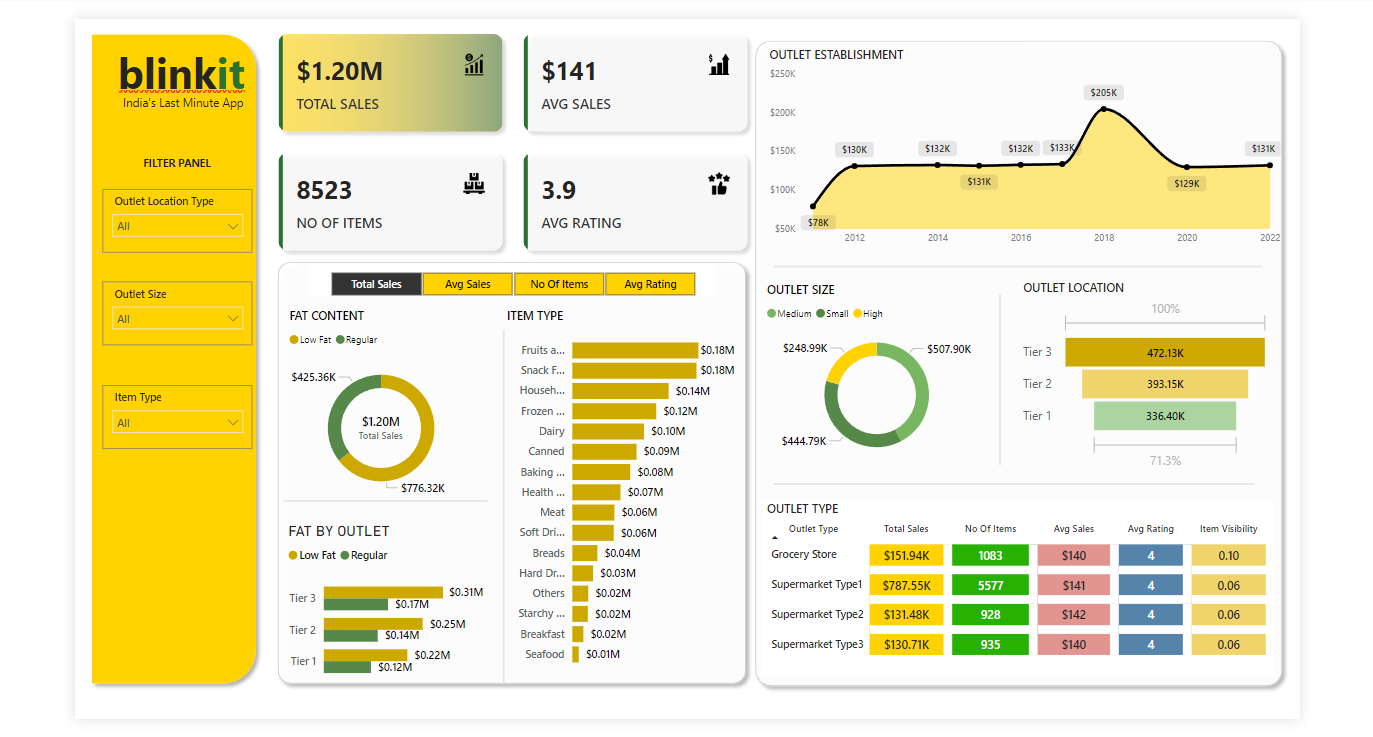

This screenshot's page, from the dashboard's own definition file:
{"tool":"powerbi","page":{"name":"Page 1","canvas":[1400,800],"ordinal":0},"visuals":[{"type":"shape","box":[10,8.6,205.7,760],"z":0},{"type":"textbox","box":[27.1,22.9,188.6,91.4],"z":1000},{"type":"textbox","box":[31.4,81.4,184.3,32.9],"z":2000},{"type":"cardVisual","fields":{"Data":["BlinkIT Grocery Data.Total Sales","BlinkIT Grocery Data.Avg Sales","BlinkIT Grocery Data.No Of Items","BlinkIT Grocery Data.Avg Rating"]},"box":[215.5,0,570.4,283.1],"z":3000},{"type":"shape","box":[222.9,268.6,552.9,500],"z":4000},{"type":"donutChart","title":"FAT CONTENT","fields":{"Y":["BlinkIT Grocery Data.Total Sales"],"Category":["BlinkIT Grocery Data.Item Fat Content"]},"box":[240,330,220,230],"z":5000},{"type":"slicer","fields":{"Values":["Matrics.Matrics"]},"box":[267.1,282.9,465.7,34.3],"z":6000},{"type":"cardVisual","fields":{"Data":["BlinkIT Grocery Data.Total Sales"]},"box":[304.3,434.3,90,57.1],"z":7000},{"type":"clusteredBarChart","title":"FAT BY OUTLET","fields":{"Y":["BlinkIT Grocery Data.Total Sales"],"Category":["BlinkIT Grocery Data.Outlet Location Type"],"Series":["BlinkIT Grocery Data.Item Fat Content"]},"box":[238.6,574.3,232.9,194.3],"z":8000},{"type":"shape","box":[238.6,541.4,232.9,18.6],"z":9000},{"type":"barChart","title":"ITEM TYPE","fields":{"Y":["BlinkIT Grocery Data.Total Sales"],"Category":["BlinkIT Grocery Data.Item Type"]},"box":[498.6,330,270,420],"z":10000},{"type":"shape","box":[768.6,15.7,620,755.7],"z":11000},{"type":"lineChart","title":"OUTLET ESTABLISHMENT","fields":{"Y":["BlinkIT Grocery Data.Total Sales"],"Category":["BlinkIT Grocery Data.Outlet Establishment Year"]},"box":[788.6,31.4,594.3,235.7],"z":12000},{"type":"shape","box":[798.6,267.1,558.6,31.4],"z":13000},{"type":"donutChart","title":"OUTLET SIZE","fields":{"Y":["BlinkIT Grocery Data.Total Sales"],"Category":["BlinkIT Grocery Data.Outlet Size"]},"box":[785.7,300,261.4,214.3],"z":14000},{"type":"shape","box":[481.4,355.7,17.1,404.3],"z":15000},{"type":"shape","box":[1050,314.3,14.3,195.7],"z":16000},{"type":"funnel","title":"OUTLET LOCATION","fields":{"Y":["Sum(BlinkIT Grocery Data.Sales)"],"Category":["BlinkIT Grocery Data.Outlet Location Type"]},"box":[1078.6,297.1,291.4,222.9],"z":17000},{"type":"shape","box":[798.6,521.4,548.6,20],"z":18000},{"type":"pivotTable","title":"OUTLET TYPE","fields":{"Rows":["BlinkIT Grocery Data.Outlet Type"],"Values":["BlinkIT Grocery Data.Total Sales","BlinkIT Grocery Data.No Of Items","BlinkIT Grocery Data.Avg Sales","BlinkIT Grocery Data.Avg Rating","Avg(BlinkIT Grocery Data.Item Visibility)"]},"box":[785.7,550,584.3,200],"z":19000},{"type":"slicer","fields":{"Values":["BlinkIT Grocery Data.Outlet Location Type"]},"box":[31.4,194.3,171.4,72.9],"z":20000},{"type":"slicer","fields":{"Values":["BlinkIT Grocery Data.Outlet Size"]},"box":[31.4,300,171.4,72.9],"z":21000},{"type":"slicer","fields":{"Values":["BlinkIT Grocery Data.Item Type"]},"box":[31.4,418.6,171.4,72.9],"z":22000},{"type":"textbox","box":[51.4,150,130,52.9],"z":23000}]}

Visuals, with their boxes on the page's 1400x800 design canvas (x1, y1, x2, y2). These are canvas units, not pixel positions in the 1373x737 screenshot, which may show the page scaled, cropped or inside an application window:
shape: select_region(10, 9, 216, 769)
textbox: select_region(27, 23, 216, 114)
textbox: select_region(31, 81, 216, 114)
cardVisual - BlinkIT Grocery Data.Total Sales x BlinkIT Grocery Data.Avg Sales: select_region(216, 0, 786, 283)
shape: select_region(223, 269, 776, 769)
"FAT CONTENT" donutChart: select_region(240, 330, 460, 560)
slicer - Matrics.Matrics: select_region(267, 283, 733, 317)
cardVisual - BlinkIT Grocery Data.Total Sales: select_region(304, 434, 394, 491)
"FAT BY OUTLET" clusteredBarChart: select_region(239, 574, 472, 769)
shape: select_region(239, 541, 472, 560)
"ITEM TYPE" barChart: select_region(499, 330, 769, 750)
shape: select_region(769, 16, 1389, 771)
"OUTLET ESTABLISHMENT" lineChart: select_region(789, 31, 1383, 267)
shape: select_region(799, 267, 1357, 298)
"OUTLET SIZE" donutChart: select_region(786, 300, 1047, 514)
shape: select_region(481, 356, 498, 760)
shape: select_region(1050, 314, 1064, 510)
"OUTLET LOCATION" funnel: select_region(1079, 297, 1370, 520)
shape: select_region(799, 521, 1347, 541)
"OUTLET TYPE" pivotTable: select_region(786, 550, 1370, 750)
slicer - BlinkIT Grocery Data.Outlet Location Type: select_region(31, 194, 203, 267)
slicer - BlinkIT Grocery Data.Outlet Size: select_region(31, 300, 203, 373)
slicer - BlinkIT Grocery Data.Item Type: select_region(31, 419, 203, 492)
textbox: select_region(51, 150, 181, 203)
